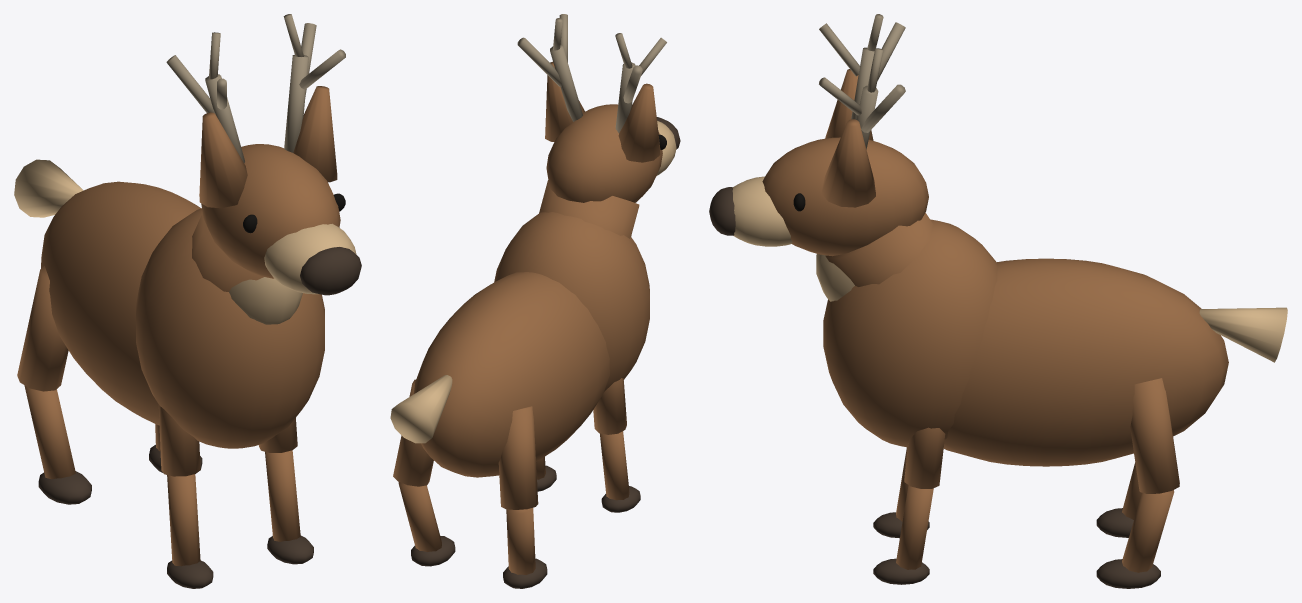
Rendered from highland_deer_v1.glb.
The picture shows the model from 3 angles, left to right: view 1: azimuth 30°, elevation 25°; view 2: azimuth 150°, elevation 25°; view 3: azimuth 270°, elevation 25°; orthographic projection. The views are drawn at different scales.
Visible parts, largest first — view 1: Chest, Body, Head, RearLegLUpper, EarL, Muzzle, RearLegLLower, Tail, EarR, FrontLegLLower, FrontLegRLower, Throat (+12 smaller); view 2: Body, Chest, Head, RearLegLUpper, Tail, Neck, EarL, RearLegRLower, RearLegLLower, FrontLegLLower, RearLegRUpper, FrontLegLUpper (+9 smaller); view 3: Body, Chest, Head, RearLegRUpper, Neck, EarR, Tail, Muzzle, RearLegRLower, FrontLegRLower, FrontLegRUpper, RearLegRHoof (+5 smaller).
Boxes of the visible parts, left/top/right/bottom form: Chest: left=136, top=208, right=324, bottom=448; Body: left=41, top=181, right=201, bottom=425; Head: left=201, top=144, right=340, bottom=278; RearLegLUpper: left=17, top=266, right=68, bottom=391; EarL: left=199, top=112, right=247, bottom=208; Muzzle: left=264, top=223, right=356, bottom=294; RearLegLLower: left=24, top=385, right=75, bottom=479; Tail: left=14, top=159, right=83, bottom=217; EarR: left=293, top=86, right=337, bottom=182; FrontLegLLower: left=167, top=474, right=200, bottom=566; FrontLegRLower: left=265, top=450, right=300, bottom=541; Throat: left=229, top=277, right=302, bottom=324; Body: left=413, top=272, right=609, bottom=477; Chest: left=494, top=212, right=649, bottom=391; Head: left=546, top=104, right=662, bottom=202; RearLegLUpper: left=498, top=406, right=538, bottom=509; Tail: left=390, top=375, right=452, bottom=443; Neck: left=539, top=180, right=639, bottom=238; EarL: left=618, top=83, right=660, bottom=162; RearLegRLower: left=398, top=482, right=441, bottom=551; RearLegLLower: left=506, top=508, right=535, bottom=574; FrontLegLLower: left=599, top=431, right=629, bottom=500; RearLegRUpper: left=393, top=379, right=433, bottom=486; FrontLegLUpper: left=593, top=378, right=626, bottom=434; Body: left=943, top=258, right=1228, bottom=466; Chest: left=823, top=219, right=997, bottom=447; Head: left=762, top=137, right=928, bottom=256; RearLegRUpper: left=1130, top=378, right=1179, bottom=493; Neck: left=825, top=212, right=934, bottom=286; EarR: left=821, top=119, right=875, bottom=207; Tail: left=1199, top=307, right=1287, bottom=362; Muzzle: left=732, top=176, right=792, bottom=246; RearLegRLower: left=1122, top=490, right=1174, bottom=572; FrontLegRLower: left=896, top=485, right=933, bottom=569; FrontLegRUpper: left=904, top=427, right=945, bottom=488; RearLegRHoof: left=1096, top=559, right=1160, bottom=588.
Bounding box in the file's own units: 1.04 × 3.29 × 3.26.
